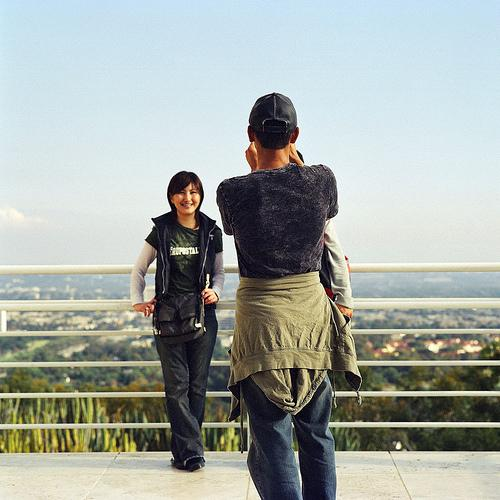person: (215, 93, 357, 498)
